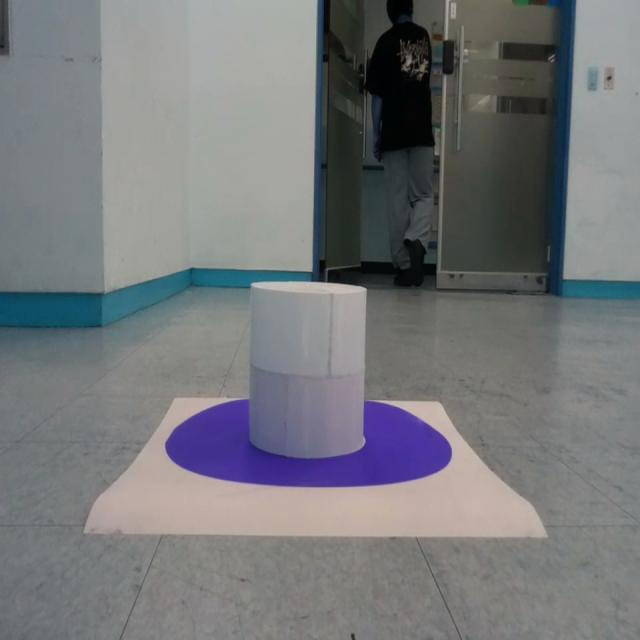cylinder: (248, 278, 366, 458)
